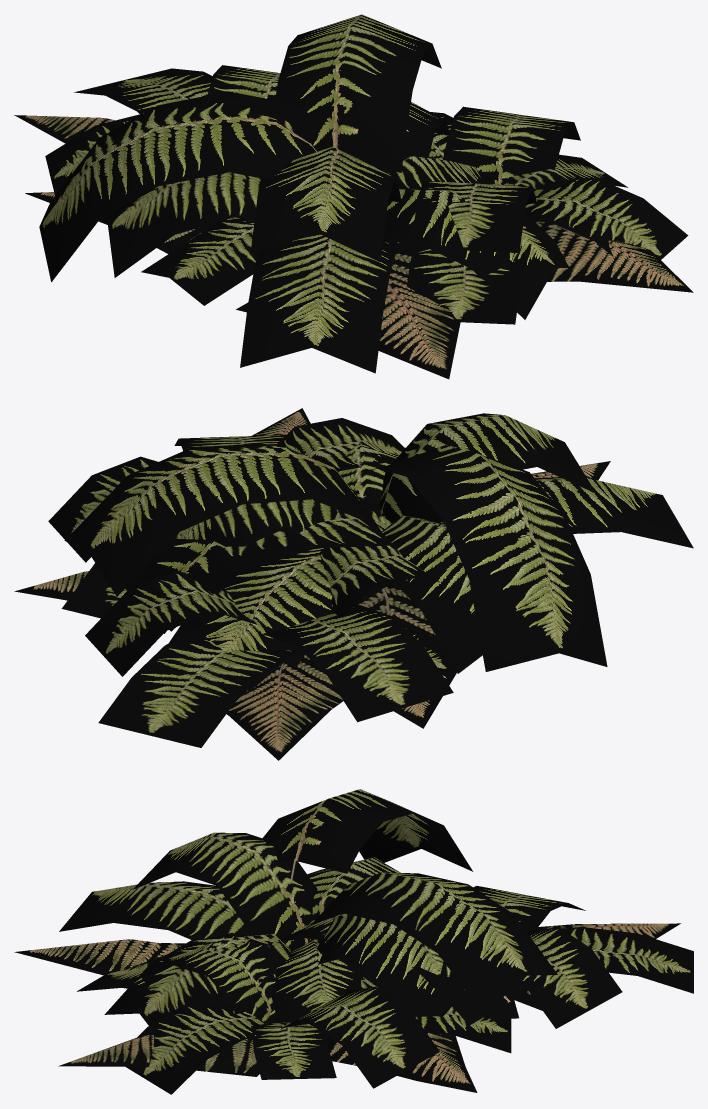
File: SM_Plant_Forest_05.fbx
3 renders of one model, top to bottom at view 1: azimuth 30°, elevation 25°; view 2: azimuth 150°, elevation 25°; view 3: azimuth 270°, elevation 25°, orthographic. The views are drawn at different scales.
Visible parts, largest first — view 1: SM_Plant_Forest_05; view 2: SM_Plant_Forest_05; view 3: SM_Plant_Forest_05.
Boxes of the visible parts, left/top/right/bottom form: SM_Plant_Forest_05: left=14, top=14, right=693, bottom=379; SM_Plant_Forest_05: left=14, top=408, right=693, bottom=760; SM_Plant_Forest_05: left=14, top=789, right=693, bottom=1094.
Size of the model in its own units: 124 by 155 by 40.45.
Materials: 1 (1 with a texture image).
